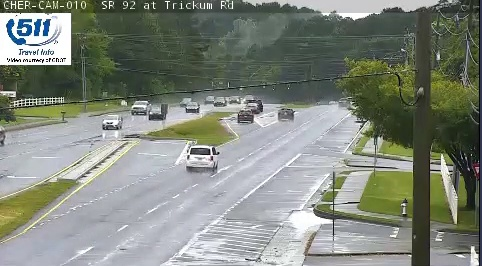car: (186, 145, 219, 169), (277, 107, 295, 121), (238, 109, 253, 122)
